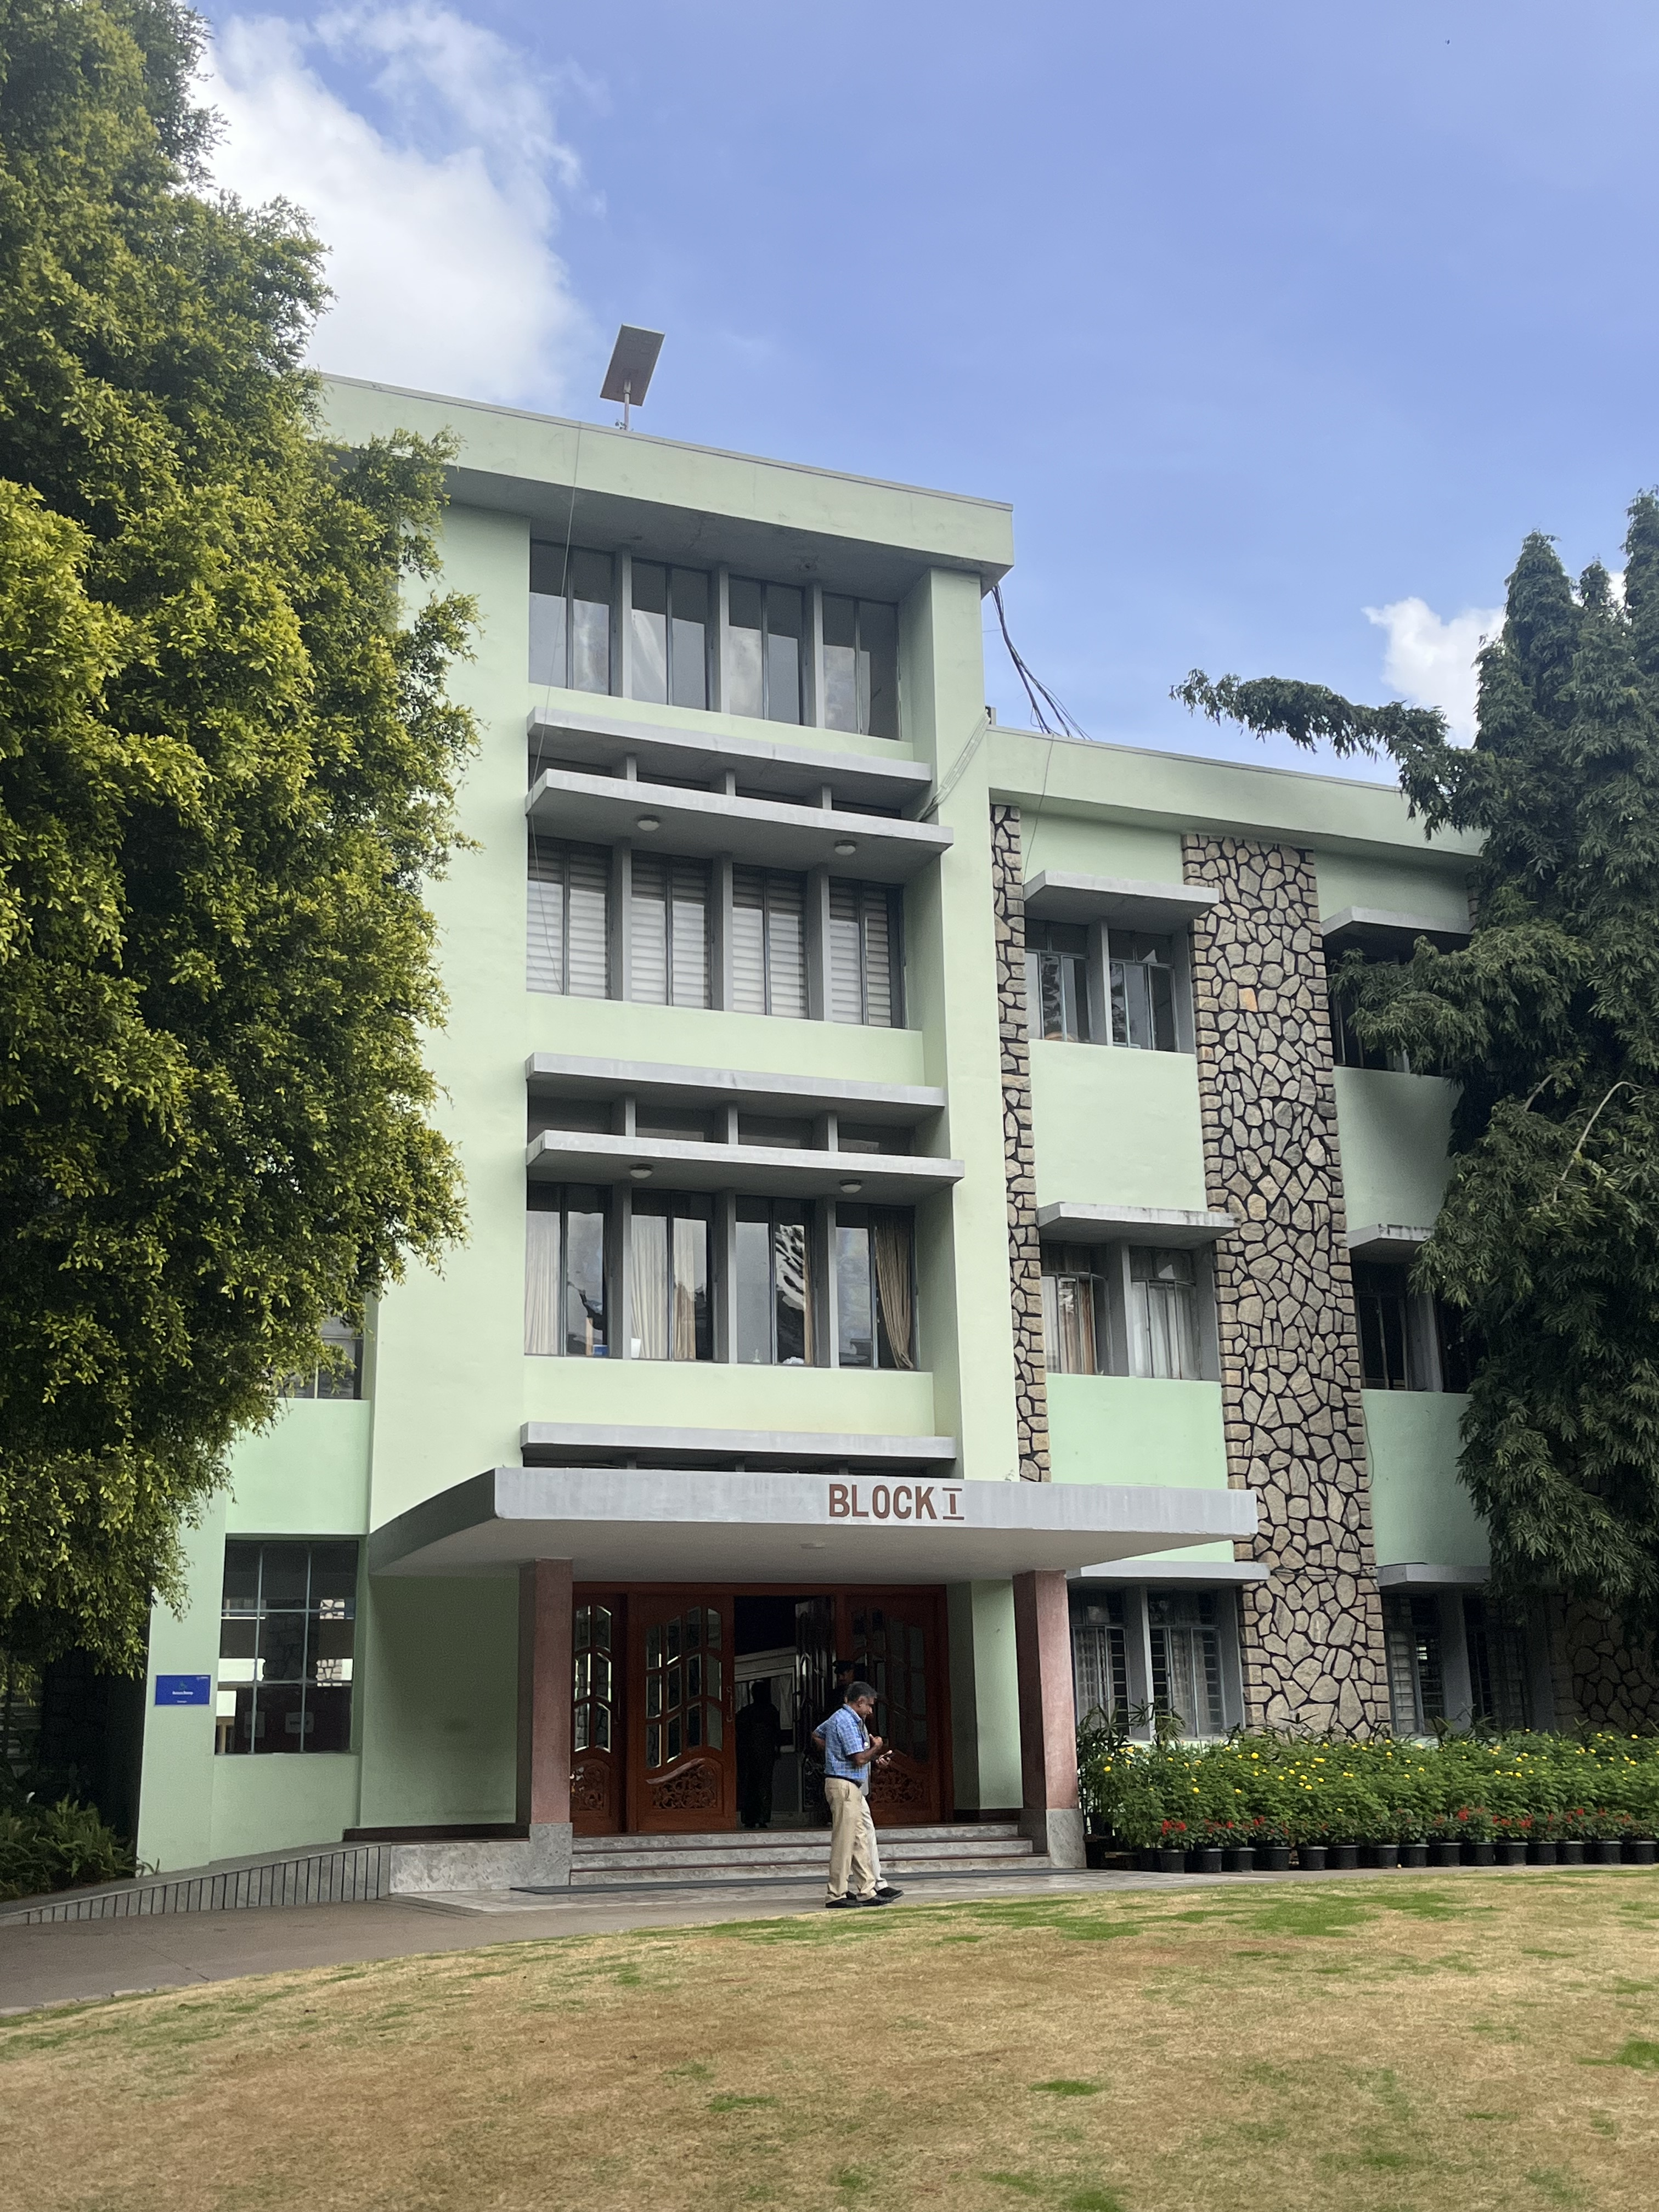Block 1: (368, 277, 1513, 1839)
